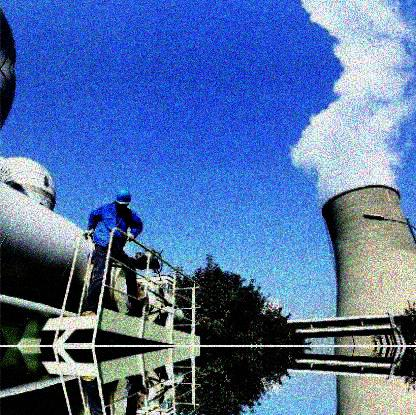helmet: (114, 188, 132, 209)
